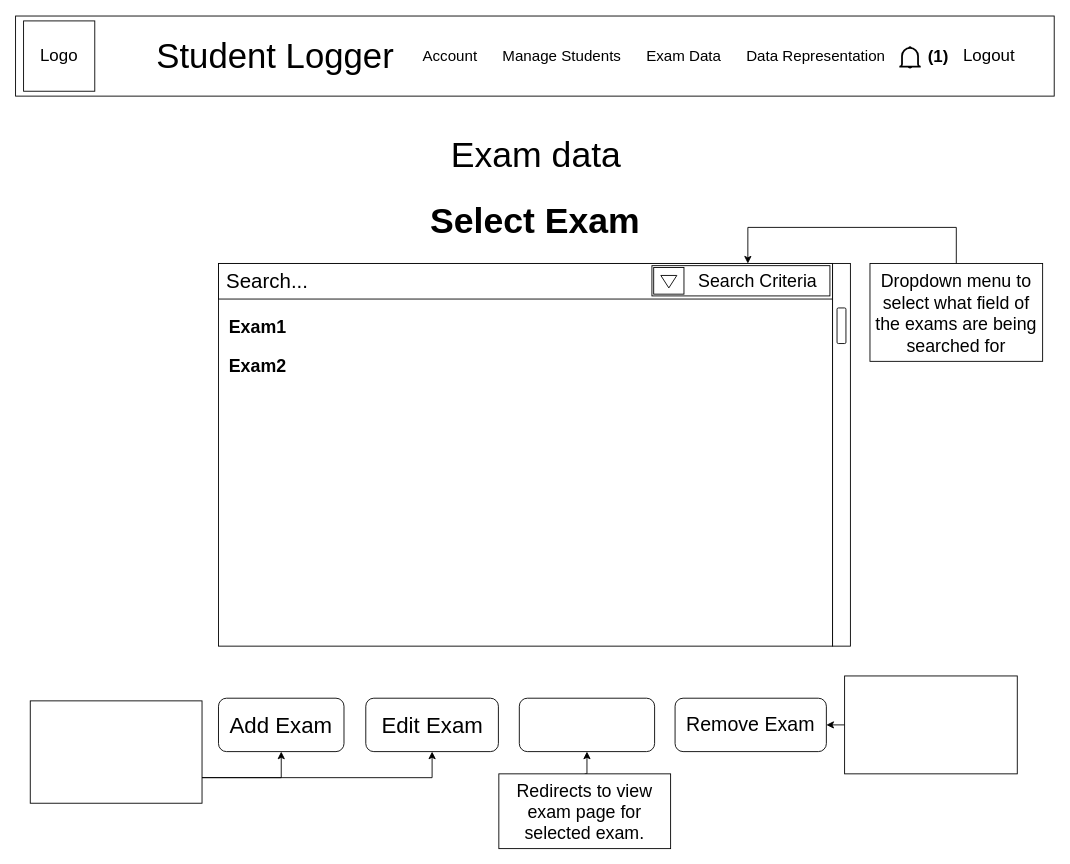
This 1070x864 diagram has some shape labels left out. Each missing label, with the centre of its shape:
(Buttons) Redirect to Create/edit exam page for selected exam.: (x=115, y=751)
Pops up an "Are you sure?" page: (x=930, y=724)
View Exam: (x=586, y=724)
